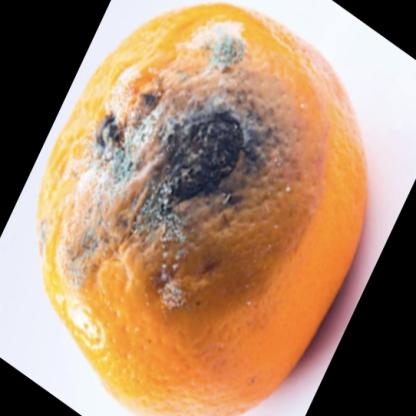rotten: (37, 6, 366, 413)
